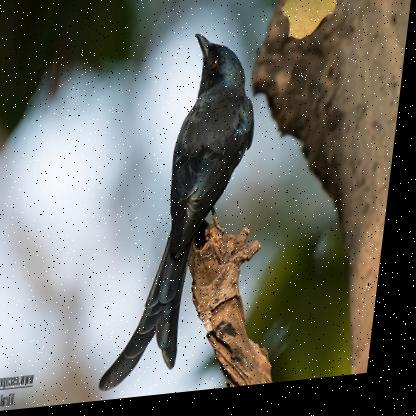Burung: (106, 33, 268, 397)
